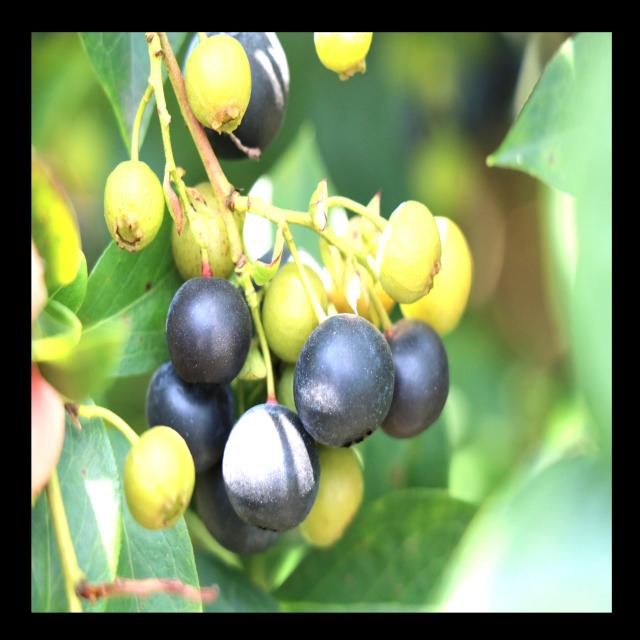blueberry: (176, 32, 295, 164), (290, 312, 399, 453), (220, 401, 326, 538), (144, 352, 240, 482), (162, 276, 256, 389), (372, 313, 452, 445), (188, 458, 286, 557)
blueberry-unripe: (122, 422, 194, 532), (407, 216, 471, 334), (258, 256, 329, 361), (298, 444, 365, 551), (171, 179, 241, 277), (182, 36, 253, 130), (374, 201, 440, 302), (101, 159, 166, 252), (312, 32, 377, 71)
